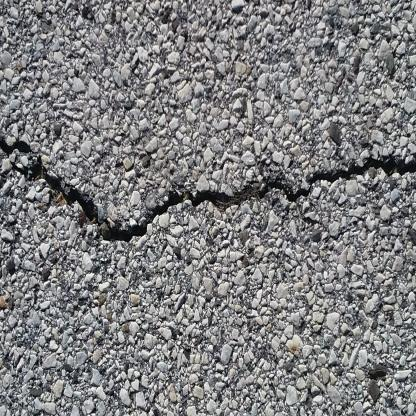Cracks: (0, 122, 416, 242)
